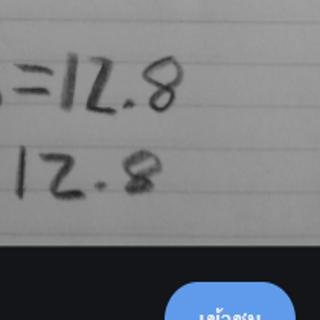.: (89, 175, 113, 194), (120, 91, 140, 112)
1: (7, 139, 29, 203), (60, 49, 79, 115)
2: (40, 149, 87, 210), (83, 54, 118, 121)
8: (143, 55, 187, 114), (121, 147, 160, 192)
